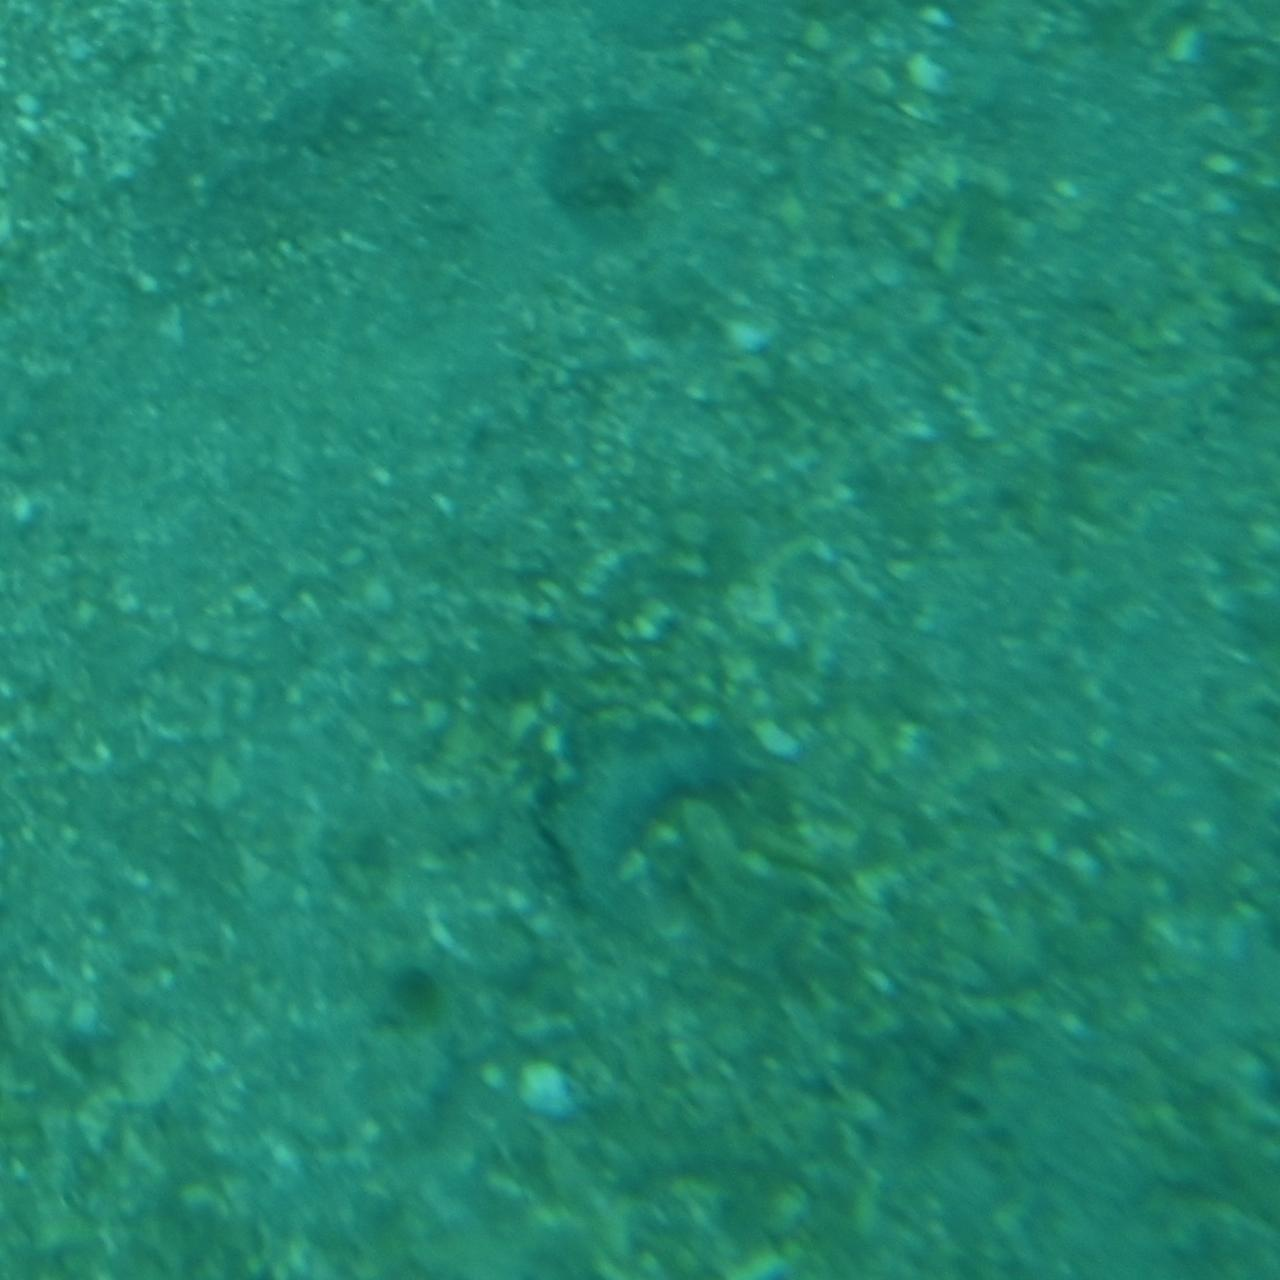Holothuria tubulosa: (527, 725, 753, 923)
